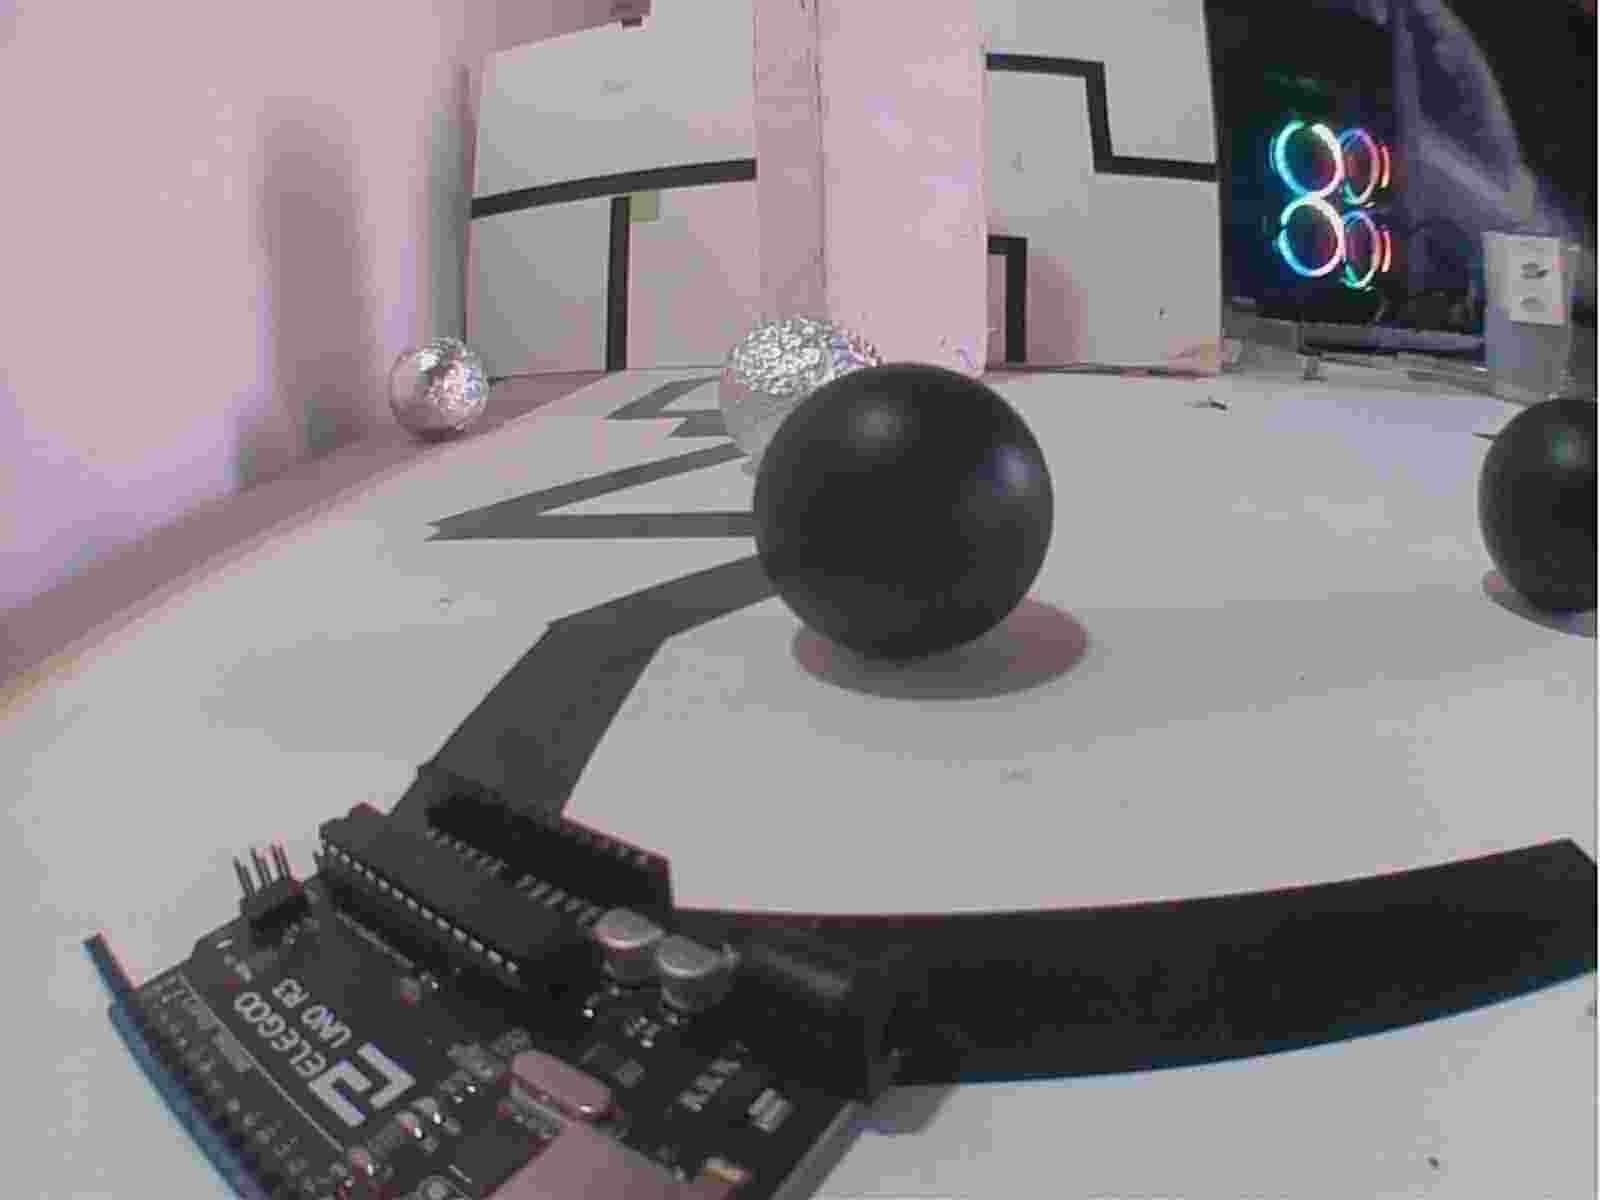bianca: (708, 311, 892, 471), (375, 332, 493, 442)
nera: (752, 357, 1058, 668), (1466, 386, 1600, 616)
